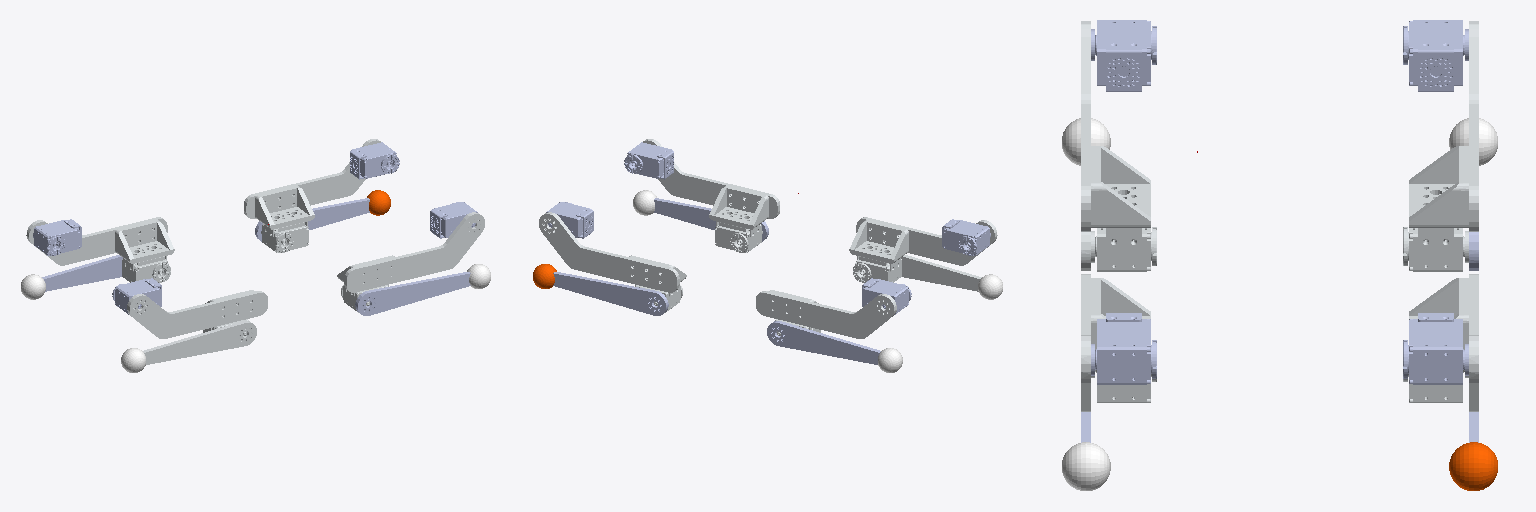
The robot description file, URDF, robot "go1_description":
<?xml version="1.0" ?>
<robot name="go1_description" xmlns:xacro="http://www.ros.org/wiki/xacro">
  <material name="black">
    <color rgba="0.0 0.0 0.0 1.0"/>
  </material>
  <material name="blue">
    <color rgba="0.0 0.0 0.8 1.0"/>
  </material>
  <material name="green">
    <color rgba="0.0 0.8 0.0 1.0"/>
  </material>
  <material name="grey">
    <color rgba="0.2 0.2 0.2 1.0"/>
  </material>
  <material name="silver">
    <color rgba="0.913725490196 0.913725490196 0.847058823529 1.0"/>
  </material>
  <material name="orange">
    <color rgba="1.0 0.423529411765 0.0392156862745 1.0"/>
  </material>
  <material name="brown">
    <color rgba="0.870588235294 0.811764705882 0.764705882353 1.0"/>
  </material>
  <material name="red">
    <color rgba="0.8 0.0 0.0 1.0"/>
  </material>
  <material name="white">
    <color rgba="1.0 1.0 1.0 1.0"/>
  </material>
  
  
  
  <link name="base">
    <inertial>
      <origin rpy="0 0 0" xyz="8.6341840647976E-11 -7.47014087380589E-11 0.0167926957733975"/>
      <mass value=".710947579295475"/>
      <inertia ixx="0.00571952965856002" ixy="-0.249931495668888E-09" ixz="-0.491296123836123E-13" iyy="0.0149377959039635" iyz="-0.884334114807228E-13" izz="0.0205597203939859"/>
    </inertial>
    <visual>
      <origin rpy="0 0 0" xyz="0 0 0"/>
      <geometry>
        <mesh filename="../meshes/base_link.STL"/>
      </geometry>
      <material name="silver">
        <color rgba="0.898039215686275 0.917647058823529 0.929411764705882 1"/>
      </material>
    </visual>
    <collision>
      <origin rpy="0 0 0" xyz="0 0 0"/>
      <geometry>
        <mesh filename="../meshes/base_link.STL"/>
      </geometry>
    </collision>
  </link>
  <link name="dummy_link">
    </link>
  <joint name="dummy_base" type="fixed">
    <parent link="dummy_link"/>
    <child link="base"/>
  </joint>

  <joint name="imu_joint" type="fixed">
    <parent link="base"/>
    <child link="imu_link"/>
    <origin rpy="0 0 0" xyz="-0.01592 -0.06659 -0.00617"/>
  </joint>
  <link name="imu_link">
    <inertial>
      <mass value="0.001"/>
      <origin rpy="0 0 0" xyz="0 0 0"/>
      <inertia ixx="0.0001" ixy="0" ixz="0" iyy="0.0001" iyz="0" izz="0.0001"/>
    </inertial>
    <visual>
      <origin rpy="0 0 0" xyz="0 0 0"/>
      <geometry>
        <box size="0.001 0.001 0.001"/>
      </geometry>
      <material name="red"/>
    </visual>
    <!-- <collision>
      <origin rpy="0 0 0" xyz="0 0 0"/>
      <geometry>
        <box size=".001 .001 .001"/>
      </geometry>
    </collision> -->
  </link>

  <!-- RF -->
  <link name="FR_motor">
    <inertial>
      <origin rpy="0 0 0" xyz="3.46528361561127E-13 -0.000189870270881271 0.0350742249422936"/>
      <mass value="0.0928911013118115"/>
      <inertia ixx="3.75161325905651E-05" ixy="-7.41190347007817E-17" ixz="5.02884658666911E-16" iyy="3.26455218272353E-05" iyz="7.89814682115298E-07" izz="2.23773454779855E-05"/>
    </inertial>
    <visual>
      <origin rpy="0 0 0" xyz="0 0 0"/>
      <geometry>
        <mesh filename="../meshes/rf_motor.STL"/>
      </geometry>
      <material name="grey">
        <color rgba="0.792156862745098 0.819607843137255 0.933333333333333 1"/>
      </material>
    </visual>
    <collision>
      <origin rpy="0 0 0" xyz="0 0 0"/>
      <geometry>
        <mesh filename="../meshes/rf_motor.STL"/>
      </geometry>
    </collision>
  </link>
  <joint name="FR_hip_joint" type="revolute">
    <origin rpy="0 1.5708 0" xyz="0.24975 -0.12625 -0.044"/>
    <parent link="base"/>
    <child link="FR_motor"/>
    <axis xyz="0 0 1"/>
    <limit effort="10" lower="-0.402"  upper="0.873" velocity="4.2"/>
    <dynamics damping="0" friction="0"/>
  </joint>
  <link name="FR_femur">
    <inertial>
      <origin rpy="0 0 0" xyz="0.131448897342225 0.0530336704844502 -0.0149773188627371"/>
      <mass value="0.374313439804215"/>
      <inertia ixx="0.000119417782609017" ixy="-0.000153825996805941" ixz="-7.63108458246601E-07" iyy="0.00118716799150086" iyz="4.69213005547157E-06" izz="0.00125251849201728"/>
    </inertial>
    <visual>
      <origin rpy="0 0 0" xyz="0 0 0"/>
      <geometry>
        <mesh filename="../meshes/rf_femur.STL"/>
      </geometry>
      <material name="grey">
        <color rgba="0.898039215686275 0.917647058823529 0.929411764705882 1"/>
      </material>
    </visual>
    <collision>
      <origin rpy="0 0 0" xyz="0 0 0"/>
      <geometry>
        <mesh filename="../meshes/rf_femur.STL"/>
      </geometry>
    </collision>
  </link>
  <joint name="FR_thigh_joint" type="revolute">
    <origin rpy="1.5708 1.5708 0" xyz="0 -0.0345 0.051"/>
    <parent link="FR_motor"/>
    <child link="FR_femur"/>
    <axis xyz="0 0 1"/>
    <limit effort="10" lower="-0.175" upper="1.6" velocity="4.2"/>
    <dynamics damping="0" friction="0"/>
  </joint>
  <link name="FR_tibia">
    <inertial>
      <origin rpy="0 0 0" xyz="-0.0867453261502669 -5.55111512312578E-17 -0.00401314334794872"/>
      <mass value="0.144975535641309"/>
      <inertia ixx="1.29467675591458E-05" ixy="1.22231464018803E-19" ixz="1.6087897833423E-07" iyy="0.000550341884939816" iyz="-1.27880149411164E-21" izz="0.000561764730826707"/>
    </inertial>
    <visual>
      <origin rpy="0 0 0" xyz="0 0 0"/>
      <geometry>
        <mesh filename="../meshes/rf_tibia.STL"/>
      </geometry>
      <material name="grey">
        <color rgba="0.792156862745098 0.819607843137255 0.933333333333333 1"/>
      </material>
    </visual>
    <collision>
      <origin rpy="0 0 0" xyz="0 0 0"/>
      <geometry>
        <mesh filename="../meshes/rf_tibia.STL"/>
      </geometry>
    </collision>
  </link>
  <joint name="FR_calf_joint" type="revolute">
    <origin rpy="0 0 0" xyz="0.19 0.091 0"/>
    <parent link="FR_femur"/>
    <child link="FR_tibia"/>
    <axis xyz="0 0 1"/>
    <limit effort="10" lower="-1.6" upper="0.05" velocity="4.2"/>
    <dynamics damping="0" friction="0"/>
  </joint>
  
  <joint name="FR_foot_fixed" type="fixed" dont_collapse="true">
    <origin rpy="0 0 0" xyz="-0.2 0 -0.004"/>
    <parent link="FR_tibia"/>
    <child link="FR_foot"/>
  </joint>
  <link name="FR_foot">
    <visual>
      <origin rpy="0 0 0" xyz="0 0 0"/>
      <geometry>
        <sphere radius="0.02"/>
      </geometry>
      <material name="white"/>
    </visual>
    <collision>
      <origin rpy="0 0 0" xyz="0 0 0"/>
      <geometry>
        <sphere radius="0.02"/>
      </geometry>
    </collision>
    <inertial>
      <mass value="0.06"/>
      <inertia ixx="9.6e-06" ixy="0.0" ixz="0.0" iyy="9.6e-06" iyz="0.0" izz="9.6e-06"/>
    </inertial>
  </link>

  <!-- LF -->
  <link name="FL_motor">
    <inertial>
      <origin rpy="0 0 0" xyz="-3.46549178242839E-13 0.000189870270881243 0.0350742249422936"/>
      <mass value="0.0928911013118115"/>
      <inertia ixx="3.75161325905651E-05" ixy="-7.41209669069041E-17" ixz="-5.0288287575741E-16" iyy="3.26455218272353E-05" iyz="-7.89814682115306E-07" izz="2.23773454779855E-05"/>
    </inertial>
    <visual>
      <origin rpy="0 0 0" xyz="0 0 0"/>
      <geometry>
        <mesh filename="../meshes/lf_motor.STL"/>
      </geometry>
      <material name="grey">
        <color rgba="0.792156862745098 0.819607843137255 0.933333333333333 1"/>
      </material>
    </visual>
    <collision>
      <origin rpy="0 0 0" xyz="0 0 0"/>
      <geometry>
        <mesh filename="../meshes/lf_motor.STL"/>
      </geometry>
    </collision>
  </link>
  <joint name="FL_hip_joint" type="revolute">
    <origin rpy="0 1.5708 0" xyz="0.24975 0.12625 -0.044"/>
    <parent link="base"/>
    <child link="FL_motor"/>
    <axis xyz="0 0 1"/>
    <limit effort="10" lower="-0.873" upper="0.402" velocity="4.2"/>
    <dynamics damping="0" friction="0"/>
  </joint>
  <link name="FL_femur">
    <inertial>
      <origin rpy="0 0 0" xyz="0.131448888138708 -0.0530336704846223 -0.0149996094248208"/>
      <mass value="0.374313439804216"/>
      <inertia ixx="0.000119417782609017" ixy="0.000153826143645029" ixz="-8.16520905983995E-07" iyy="0.00118716799150086" iyz="-4.57684943064706E-06" izz="0.00125251849201728"/>
    </inertial>
    <visual>
      <origin rpy="0 0 0" xyz="0 0 0"/>
      <geometry>
        <mesh filename="../meshes/lf_femur.STL"/>
      </geometry>
      <material name="grey">
        <color rgba="0.898039215686275 0.917647058823529 0.929411764705882 1"/>
      </material>
    </visual>
    <collision>
      <origin rpy="0 0 0" xyz="0 0 0"/>
      <geometry>
        <mesh filename="../meshes/lf_femur.STL"/>
      </geometry>
    </collision>
  </link>
  <joint name="FL_thigh_joint" type="revolute">
    <origin rpy="-1.5708 1.5708 0" xyz="0 0.0345 0.051"/>
    <!-- rpy="1.5708 1.5708 0" />-->
    <parent link="FL_motor"/>
    <child link="FL_femur"/>
    <axis xyz="0 0 1"/>
    <limit effort="10" lower="-1.6" upper="0.175" velocity="4.2"/>
    <dynamics damping="0" friction="0"/>
  </joint>
  <link name="FL_tibia">
    <inertial>
      <origin rpy="0 0 0" xyz="-0.086745326150267 0 -0.00401314334794908"/>
      <mass value="0.14497553564131"/>
      <inertia ixx="1.29467675591458E-05" ixy="-9.6595618279603E-20" ixz="1.60878978333949E-07" iyy="0.000550341884939818" iyz="-2.72493495105014E-21" izz="0.000561764730826709"/>
    </inertial>
    <visual>
      <origin rpy="0 0 0" xyz="0 0 0"/>
      <geometry>
        <mesh filename="../meshes/lf_tibia.STL"/>
      </geometry>
      <material name="grey">
        <color rgba="0.792156862745098 0.819607843137255 0.933333333333333 1"/>
      </material>
    </visual>
    <collision>
      <origin rpy="0 0 0" xyz="0 0 0"/>
      <geometry>
        <mesh filename="../meshes/lf_tibia.STL"/>
      </geometry>
    </collision>
  </link>
  <joint name="FL_calf_joint" type="revolute">
    <origin rpy="0 0 0" xyz="0.19 -0.091 0"/>
    <parent link="FL_femur"/>
    <child link="FL_tibia"/>
    <axis xyz="0 0 1"/>
    <limit effort="10" lower="-0.05" upper="1.6" velocity="4.2"/>
    <dynamics damping="0" friction="0"/>
  </joint>

  <joint name="FL_foot_fixed" type="fixed" dont_collapse="true">
    <origin rpy="0 0 0" xyz="-0.2 0 -0.004"/>
    <parent link="FL_tibia"/>
    <child link="FL_foot"/>
  </joint>
  <link name="FL_foot">
    <visual>
      <origin rpy="0 0 0" xyz="0 0 0"/>
      <geometry>
        <sphere radius="0.02"/>
      </geometry>
      <material name="orange"/>
    </visual>
    <collision>
      <origin rpy="0 0 0" xyz="0 0 0"/>
      <geometry>
        <sphere radius="0.02"/>
      </geometry>
    </collision>
    <inertial>
      <mass value="0.06"/>
      <inertia ixx="9.6e-06" ixy="0.0" ixz="0.0" iyy="9.6e-06" iyz="0.0" izz="9.6e-06"/>
    </inertial>
  </link>

  <!-- RB -->
  <link name="RR_motor">
    <inertial>
      <origin rpy="0 0 0" xyz="3.46556117136743E-13 -0.000189870270881243 0.0350742249422937"/>
      <mass value="0.0928911013118116"/>
      <inertia ixx="3.75161325905651E-05" ixy="-7.41198986042098E-17" ixz="5.02886912570146E-16" iyy="3.26455218272353E-05" iyz="7.89814682115311E-07" izz="2.23773454779855E-05"/>
    </inertial>
    <visual>
      <origin rpy="0 0 0" xyz="0 0 0"/>
      <geometry>
        <mesh filename="../meshes/rb_motor.STL"/>
      </geometry>
      <material name="grey">
        <color rgba="0.792156862745098 0.819607843137255 0.933333333333333 1"/>
      </material>
    </visual>
    <collision>
      <origin rpy="0 0 0" xyz="0 0 0"/>
      <geometry>
        <mesh filename="../meshes/rb_motor.STL"/>
      </geometry>
    </collision>
  </link>
  <joint name="RR_hip_joint" type="revolute">
    <origin rpy="0 -1.5708 0" xyz="-0.24975 -0.12625 -0.044"/>
    <!--rpy="3.1416 -1.5708 0" />-->
    <parent link="base"/>
    <child link="RR_motor"/>
    <axis xyz="0 0 1"/>
    <limit effort="10" lower="-0.873" upper="0.402" velocity="4.2"/>
    <dynamics damping="0" friction="0"/>
  </joint>
  <link name="RR_femur">
    <inertial>
      <origin rpy="0 0 0" xyz="0.131448888138708 -0.0530336704846223 -0.0149996094248204"/>
      <mass value="0.374313439804216"/>
      <inertia ixx="0.000119417782609017" ixy="0.000153826143645029" ixz="-8.16520905983542E-07" iyy="0.00118716799150086" iyz="-4.57684943064712E-06" izz="0.00125251849201728"/>
    </inertial>
    <visual>
      <origin rpy="0 0 0" xyz="0 0 0"/>
      <geometry>
        <mesh filename="../meshes/rb_femur.STL"/>
      </geometry>
      <material name="grey">
        <color rgba="0.898039215686275 0.917647058823529 0.929411764705882 1"/>
      </material>
    </visual>
    <collision>
      <origin rpy="0 0 0" xyz="0 0 0"/>
      <geometry>
        <mesh filename="../meshes/rb_femur.STL"/>
      </geometry>
    </collision>
  </link>
  <joint name="RR_thigh_joint" type="revolute">
    <origin rpy="1.5708 1.5708 0" xyz="0 -0.0345 0.051"/>
    <parent link="RR_motor"/>
    <child link="RR_femur"/>
    <axis xyz="0 0 1"/>
    <limit effort="10" lower="-1.6" upper="0.175" velocity="4.2"/>
    <dynamics damping="0" friction="0"/>
  </joint>
  <link name="RR_tibia">
    <inertial>
      <origin rpy="0 0 0" xyz="-0.0867453261502668 0 -0.00401314334794864"/>
      <mass value="0.144975535641309"/>
      <inertia ixx="1.29467675591458E-05" ixy="-9.49005915458181E-20" ixz="1.60878978333985E-07" iyy="0.000550341884939815" iyz="-5.69210434088898E-22" izz="0.000561764730826707"/>
    </inertial>
    <visual>
      <origin rpy="0 0 0" xyz="0 0 0"/>
      <geometry>
        <mesh filename="../meshes/rb_tibia.STL"/>
      </geometry>
      <material name="grey">
        <color rgba="0.898039215686275 0.917647058823529 0.929411764705882 1"/>
      </material>
    </visual>
    <collision>
      <origin rpy="0 0 0" xyz="0 0 0"/>
      <geometry>
        <mesh filename="../meshes/rb_tibia.STL"/>
      </geometry>
    </collision>
  </link>
  <joint name="RR_calf_joint" type="revolute">
    <origin rpy="0 0 0" xyz="0.19 -0.091 0"/>
    <parent link="RR_femur"/>
    <child link="RR_tibia"/>
    <axis xyz="0 0 1"/>
    <limit effort="10" lower="-0.05" upper="1.6" velocity="4.2"/>
    <dynamics damping="0" friction="0"/>
  </joint>

  <joint name="RR_foot_fixed" type="fixed" dont_collapse="true">
    <origin rpy="0 0 0" xyz="-0.2 0 -0.004"/>
    <parent link="RR_tibia"/>
    <child link="RR_foot"/>
  </joint>
  <link name="RR_foot">
    <visual>
      <origin rpy="0 0 0" xyz="0 0 0"/>
      <geometry>
        <sphere radius="0.02"/>
      </geometry>
      <material name="white"/>
    </visual>
    <collision>
      <origin rpy="0 0 0" xyz="0 0 0"/>
      <geometry>
        <sphere radius="0.02"/>
      </geometry>
    </collision>
    <inertial>
      <mass value="0.06"/>
      <inertia ixx="9.6e-06" ixy="0.0" ixz="0.0" iyy="9.6e-06" iyz="0.0" izz="9.6e-06"/>
    </inertial>
  </link>

  <!-- LB -->
  <link name="RL_motor">
    <inertial>
      <origin rpy="0 0 0" xyz="-3.47402662193019E-13 0.000189870270880715 0.0350742249422937"/>
      <mass value="0.0928911013118115"/>
      <inertia ixx="3.75161325905651E-05" ixy="-7.41212101850725E-17" ixz="-5.02887302159402E-16" iyy="3.26455218272353E-05" iyz="-7.89814682115302E-07" izz="2.23773454779855E-05"/>
    </inertial>
    <visual>
      <origin rpy="0 0 0" xyz="0 0 0"/>
      <geometry>
        <mesh filename="../meshes/lb_motor.STL"/>
      </geometry>
      <material name="grey">
        <color rgba="0.792156862745098 0.819607843137255 0.933333333333333 1"/>
      </material>
    </visual>
    <collision>
      <origin rpy="0 0 0" xyz="0 0 0"/>
      <geometry>
        <mesh filename="../meshes/lb_motor.STL"/>
      </geometry>
    </collision>
  </link>
  <joint name="RL_hip_joint" type="revolute">
    <origin rpy="0 -1.5708 0" xyz="-0.24975 0.12625 -0.044"/>
    <!--rpy="3.1416 -1.5708 0" />-->
    <parent link="base"/>
    <child link="RL_motor"/>
    <axis xyz="0 0 1"/>
    <limit effort="10" lower="-0.402"  upper="0.873" velocity="4.2"/>
    <dynamics damping="0" friction="0"/>
  </joint>
  <!-- LB -->
  <link name="RL_femur">
    <inertial>
      <origin rpy="0 0 0" xyz="-0.131448897342225 -0.0530336704844502 -0.0149773188627371"/>
      <mass value="0.374313439804215"/>
      <inertia ixx="0.000119417782609017" ixy="-0.00015382599680594" ixz="7.63108458247478E-07" iyy="0.00118716799150085" iyz="-4.69213005547143E-06" izz="0.00125251849201728"/>
    </inertial>
    <visual>
      <origin rpy="0 0 0" xyz="0 0 0"/>
      <geometry>
        <mesh filename="../meshes/lb_femur.STL"/>
      </geometry>
      <material name="grey">
        <color rgba="0.898039215686275 0.917647058823529 0.929411764705882 1"/>
      </material>
    </visual>
    <collision>
      <origin rpy="0 0 0" xyz="0 0 0"/>
      <geometry>
        <mesh filename="../meshes/lb_femur.STL"/>
      </geometry>
    </collision>
  </link>
  <joint name="RL_thigh_joint" type="revolute">
    <origin rpy="-1.5708 -1.5708 0" xyz="0 0.0345 0.051"/>
    <!--rpy="1.5708 -1.5708 0" />-->
    <parent link="RL_motor"/>
    <child link="RL_femur"/>
    <axis xyz="0 0 1"/>
    <limit effort="10" lower="-0.175" upper="1.6" velocity="4.2"/>
    <dynamics damping="0" friction="0"/>
  </joint>
  <link name="RL_tibia">
    <inertial>
      <origin rpy="0 0 0" xyz="-0.0867453261502669 1.66533453693773E-16 -0.00401314334794892"/>
      <mass value="0.144975535641309"/>
      <inertia ixx="1.29467675591458E-05" ixy="1.55285211426889E-19" ixz="1.60878978334006E-07" iyy="0.000550341884939816" iyz="1.71678900468381E-21" izz="0.000561764730826708"/>
    </inertial>
    <visual>
      <origin rpy="0 0 0" xyz="0 0 0"/>
      <geometry>
        <mesh filename="../meshes/lb_tibia.STL"/>
      </geometry>
      <material name="grey">
        <color rgba="0.792156862745098 0.819607843137255 0.933333333333333 1"/>
      </material>
    </visual>
    <collision>
      <origin rpy="0 0 0" xyz="0 0 0"/>
      <geometry>
        <mesh filename="../meshes/lb_tibia.STL"/>
      </geometry>
    </collision>
  </link>
  <joint name="RL_calf_joint" type="revolute">
    <origin rpy="0 0 -3.1416" xyz="-0.19 -0.091 0"/>
    <parent link="RL_femur"/>
    <child link="RL_tibia"/>
    <axis xyz="0 0 1"/>
    <limit effort="10" lower="-1.6" upper="0.05" velocity="4.2"/>
    <dynamics damping="0" friction="0"/>
  </joint>

  <joint name="RL_foot_fixed" type="fixed" dont_collapse="true">
    <origin rpy="0 0 0" xyz="-0.2 0 -0.004"/>
    <parent link="RL_tibia"/>
    <child link="RL_foot"/>
  </joint>
  <link name="RL_foot">
    <visual>
      <origin rpy="0 0 0" xyz="0 0 0"/>
      <geometry>
        <sphere radius="0.02"/>
      </geometry>
      <material name="white"/>
    </visual>
    <collision>
      <origin rpy="0 0 0" xyz="0 0 0"/>
      <geometry>
        <sphere radius="0.02"/>
      </geometry>
    </collision>
    <inertial>
      <mass value="0.06"/>
      <inertia ixx="9.6e-06" ixy="0.0" ixz="0.0" iyy="9.6e-06" iyz="0.0" izz="9.6e-06"/>
    </inertial>
  </link>

</robot>

--- What the picture shows (computed from the rendered views, not written in the file) ---
Views: 3 orthographic renders of the robot side by side, from view 1: azimuth 30°, elevation 25°; view 2: azimuth 150°, elevation 25°; view 3: azimuth 270°, elevation 25°.
Model go1_description with 19 links and 18 joints (12 revolute, 6 fixed), rooted at dummy_link, posed all joints at 0.
Visible links, largest first — view 1: FL_femur, RL_femur, FR_femur, RR_femur, FR_tibia, RR_tibia, RL_tibia, FL_motor, RL_motor, FL_tibia, FR_motor, RR_motor; view 2: FR_femur, RR_femur, FL_femur, RL_femur, FL_tibia, RL_tibia, RR_tibia, FR_motor, RR_motor, FR_tibia, FL_motor, RL_motor; view 3: RR_femur, RL_femur, FR_motor, FL_motor, RR_motor, RL_motor, FR_femur, FL_femur, FR_foot, FL_foot, RR_foot, RL_foot.
Link boxes in pixels (left/top/right/bottom): FL_femur: left=244, top=139, right=380, bottom=252; RL_femur: left=26, top=217, right=174, bottom=282; FR_femur: left=337, top=212, right=484, bottom=312; RR_femur: left=127, top=290, right=267, bottom=338; FR_tibia: left=355, top=272, right=470, bottom=315; RR_tibia: left=143, top=321, right=256, bottom=364; RL_tibia: left=42, top=255, right=122, bottom=291; FL_motor: left=350, top=142, right=399, bottom=179; RL_motor: left=33, top=219, right=81, bottom=255; FL_tibia: left=255, top=198, right=369, bottom=241; FR_motor: left=430, top=202, right=477, bottom=238; RR_motor: left=112, top=278, right=161, bottom=314; FR_femur: left=643, top=139, right=779, bottom=252; RR_femur: left=849, top=217, right=997, bottom=282; FL_femur: left=539, top=212, right=686, bottom=312; RL_femur: left=756, top=290, right=896, bottom=338; FL_tibia: left=553, top=272, right=668, bottom=315; RL_tibia: left=767, top=321, right=880, bottom=364; RR_tibia: left=901, top=255, right=981, bottom=291; FR_motor: left=624, top=142, right=673, bottom=179; RR_motor: left=942, top=219, right=990, bottom=255; FR_tibia: left=654, top=198, right=768, bottom=241; FL_motor: left=546, top=202, right=593, bottom=238; RL_motor: left=862, top=278, right=911, bottom=314; RR_femur: left=1081, top=21, right=1156, bottom=271; RL_femur: left=1403, top=21, right=1478, bottom=271; FR_motor: left=1091, top=313, right=1156, bottom=384; FL_motor: left=1403, top=313, right=1468, bottom=384; RR_motor: left=1091, top=20, right=1156, bottom=91; RL_motor: left=1403, top=20, right=1468, bottom=91; FR_femur: left=1081, top=274, right=1156, bottom=411; FL_femur: left=1403, top=274, right=1478, bottom=411; FR_foot: left=1062, top=442, right=1110, bottom=490; FL_foot: left=1449, top=442, right=1497, bottom=490; RR_foot: left=1062, top=118, right=1110, bottom=165; RL_foot: left=1449, top=118, right=1497, bottom=165.
Bounding box of the posed robot: 0.6615 × 0.3535 × 0.1493 m (x, y, z).
12 mesh visuals loaded from 13 distinct referenced files (12 binary STL); not drawn: 1 (reference not matched to a file when rendering).